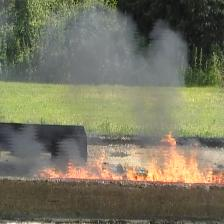fire: (34, 131, 224, 182)
